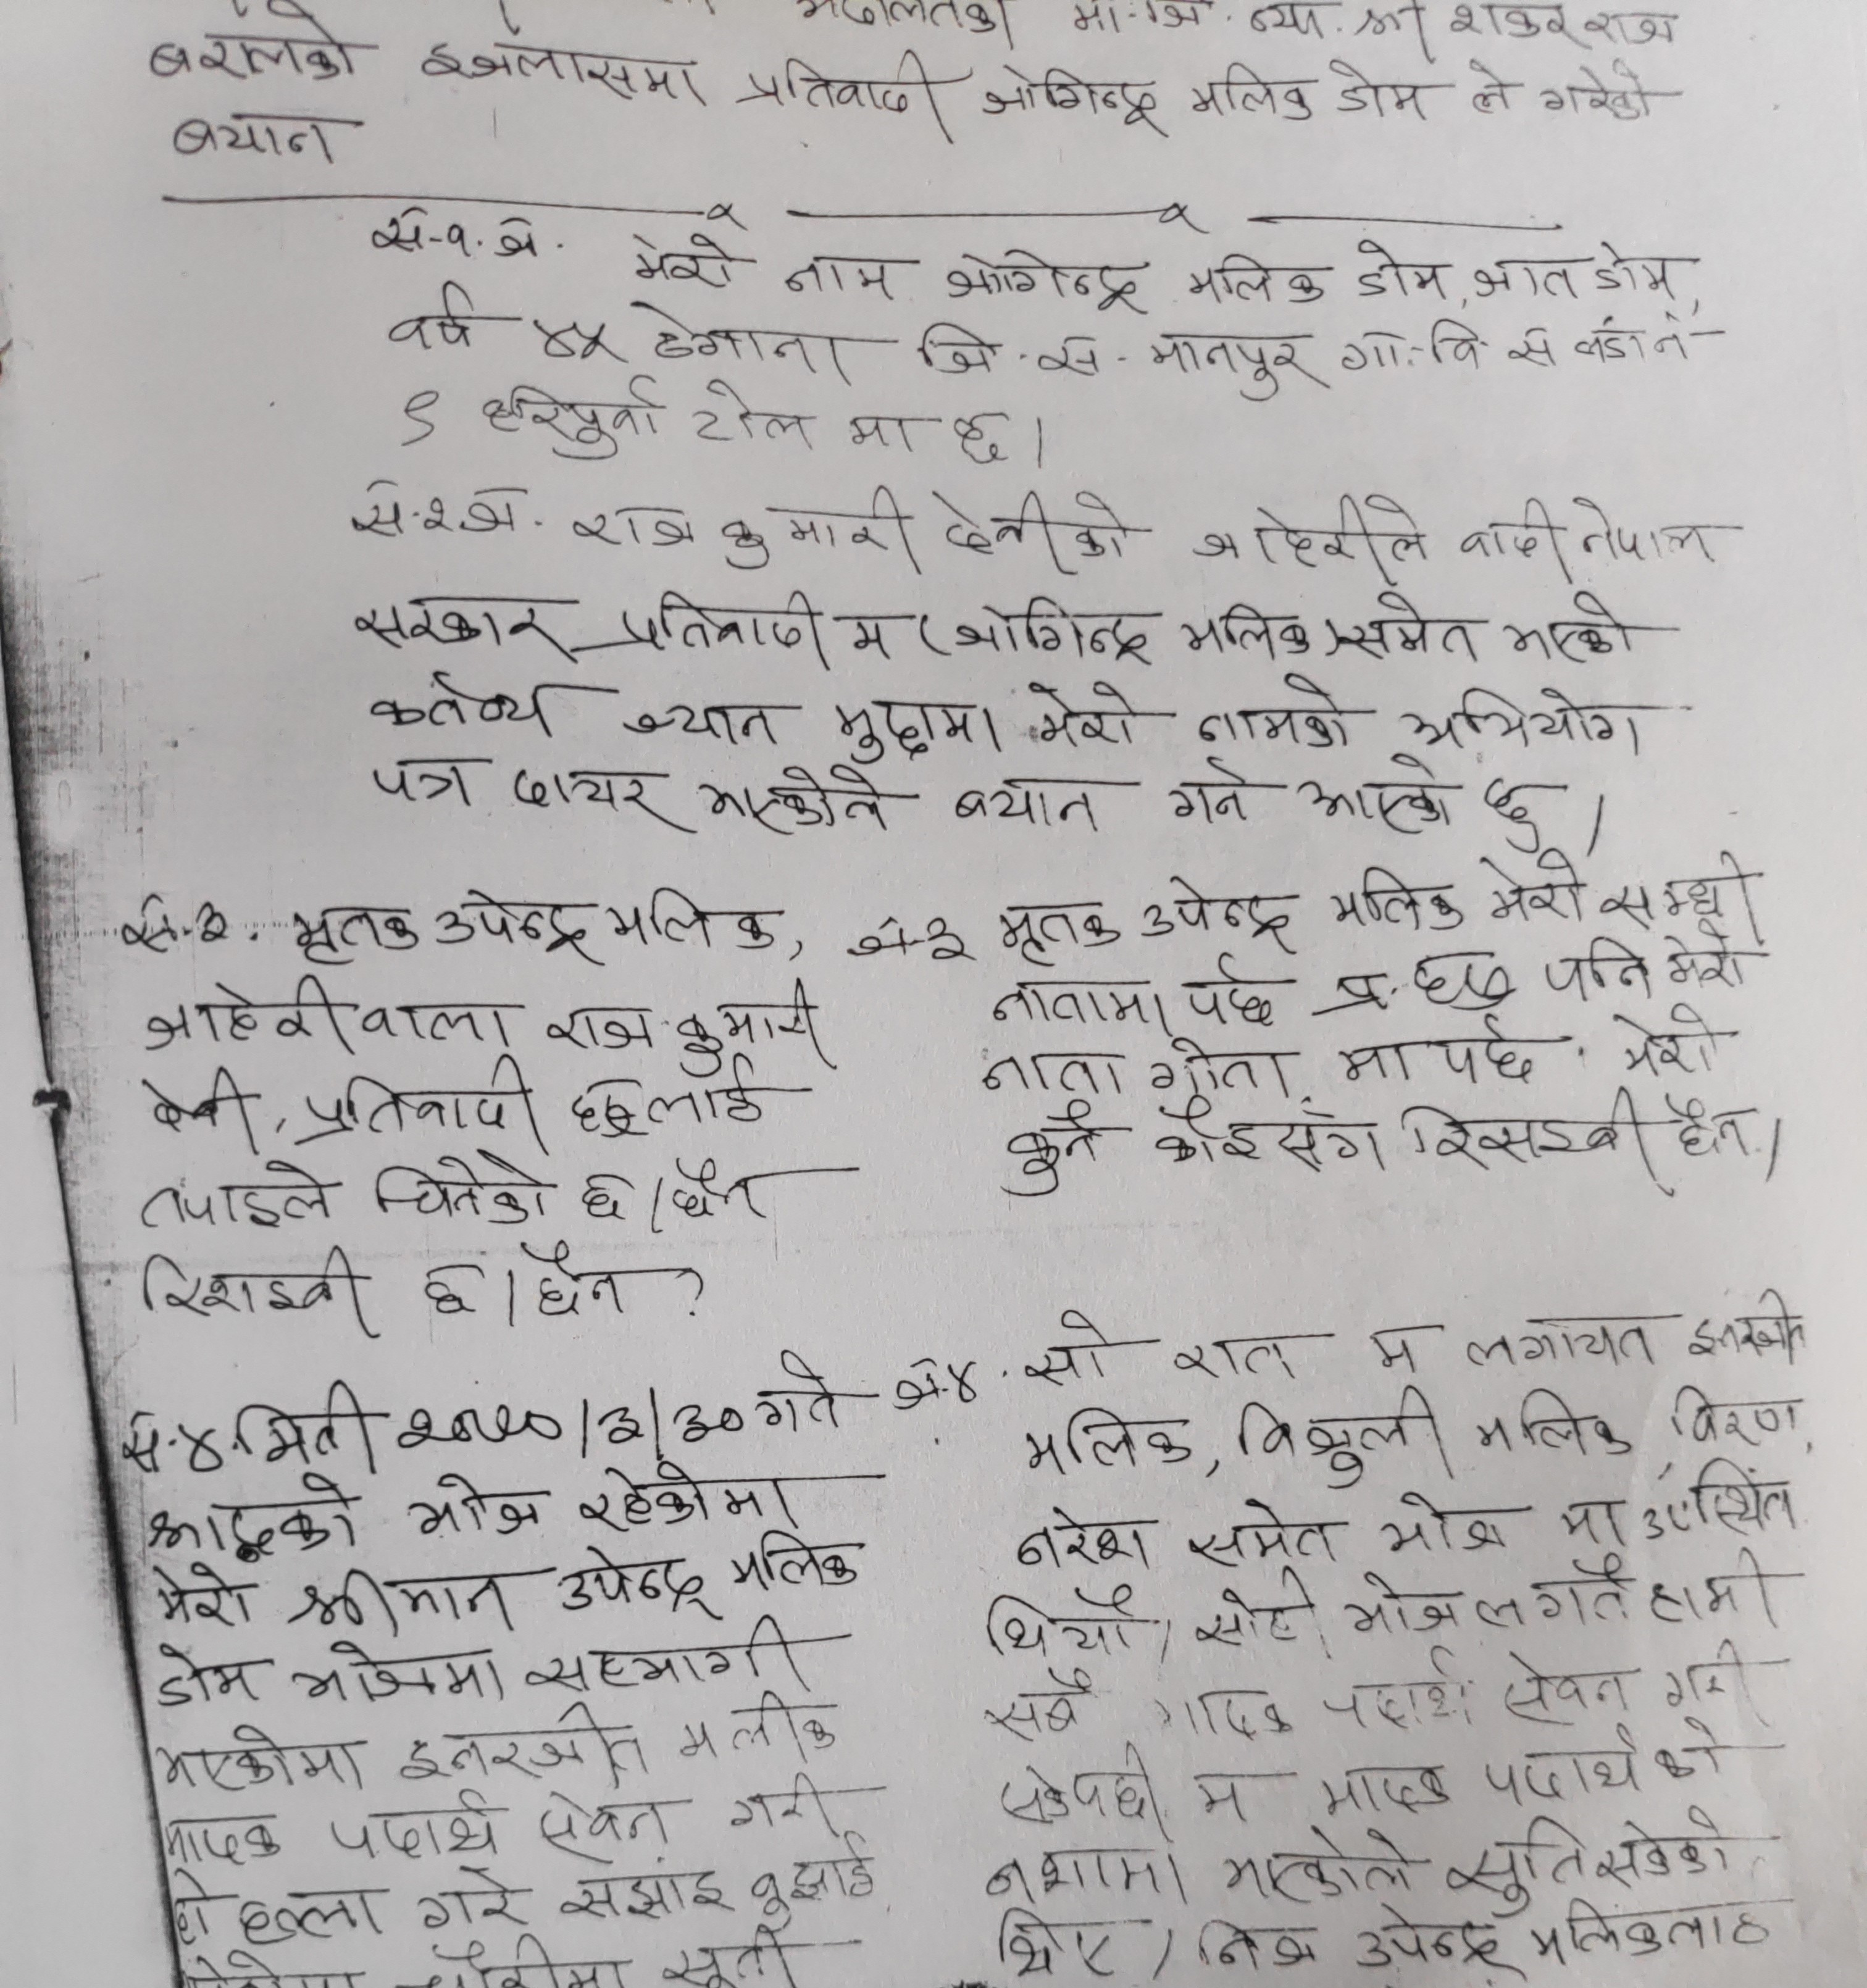text: (1228, 1379, 1470, 1493), (418, 28, 714, 112), (739, 44, 956, 156), (397, 1698, 660, 1790), (1398, 1088, 1653, 1179), (388, 1391, 755, 1455), (518, 1613, 802, 1691), (135, 1241, 374, 1334), (1184, 490, 1428, 577), (712, 477, 926, 576), (635, 291, 860, 384), (147, 1472, 372, 1565), (298, 1051, 546, 1135), (1151, 1095, 1390, 1181), (146, 0, 367, 91), (1393, 681, 1648, 754), (600, 584, 832, 665), (567, 1053, 779, 1141), (928, 483, 1137, 570), (291, 1562, 521, 1637), (153, 1718, 377, 1795), (167, 91, 363, 177), (977, 54, 1174, 140), (1220, 1823, 1420, 1907), (570, 1460, 797, 1534), (142, 974, 342, 1056), (1191, 663, 1360, 760), (344, 584, 562, 658), (948, 593, 1162, 667), (1441, 1807, 1588, 1914), (1144, 319, 1330, 404), (911, 312, 1139, 381), (476, 386, 669, 467), (135, 1156, 337, 1234), (290, 1641, 511, 1711), (997, 1739, 1176, 1825), (370, 1148, 553, 1232), (363, 667, 579, 737), (1316, 940, 1521, 1014), (693, 756, 891, 832), (1139, 872, 1314, 956), (1337, 311, 1558, 377), (554, 1535, 721, 1623), (937, 244, 1144, 314), (428, 881, 597, 967), (1635, 1456, 1807, 1541), (365, 197, 570, 267), (825, 686, 1004, 765), (981, 1835, 1191, 1902), (323, 1786, 509, 1862), (1472, 1384, 1635, 1470), (1479, 1721, 1639, 1809), (1297, 753, 1456, 839), (600, 883, 777, 960), (679, 1686, 844, 1769), (976, 1586, 1148, 1663), (1490, 1642, 1639, 1730), (509, 756, 670, 837), (1313, 1651, 1477, 1730), (669, 972, 832, 1051), (232, 1379, 372, 1470), (1023, 1405, 1195, 1479), (1184, 1569, 1328, 1656), (1595, 844, 1755, 923), (1588, 1809, 1751, 1886), (990, 963, 1169, 1033), (349, 470, 523, 542), (744, 1828, 872, 1925), (1455, 1307, 1667, 1365), (1177, 1491, 1337, 1567), (1334, 588, 1479, 669), (1500, 584, 1641, 667), (398, 1472, 553, 1546), (1574, 484, 1716, 563), (1014, 665, 1137, 754), (554, 1867, 733, 1928), (1176, 593, 1318, 669), (1000, 1102, 1104, 1205), (683, 379, 821, 456), (1648, 1548, 1783, 1627), (530, 1784, 674, 1858), (1656, 1377, 1802, 1449), (1677, 1283, 1804, 1365), (140, 1065, 256, 1155), (281, 897, 425, 969), (1334, 860, 1470, 935), (1372, 1490, 1516, 1560), (1153, 1033, 1300, 1102), (951, 767, 1107, 830), (1012, 1504, 1153, 1574), (1316, 1748, 1456, 1818), (1188, 56, 1321, 130), (1453, 493, 1567, 579), (519, 1239, 635, 1323), (1146, 1683, 1297, 1746), (1174, 249, 1328, 311), (158, 1802, 290, 1874), (1535, 56, 1660, 132), (1183, 953, 1290, 1040), (230, 1888, 386, 1948), (1542, 932, 1656, 1012), (979, 1667, 1095, 1746), (142, 1558, 263, 1634), (623, 691, 784, 747), (1342, 1569, 1465, 1642), (1604, 1005, 1723, 1081), (976, 1046, 1135, 1102), (146, 1637, 267, 1711), (723, 1528, 863, 1591), (354, 990, 507, 1048), (565, 491, 697, 558), (984, 898, 1119, 963), (1018, 1307, 1119, 1391), (753, 1346, 853, 1430), (1430, 1014, 1544, 1088), (384, 279, 490, 356), (1481, 856, 1586, 933), (416, 1860, 526, 1932), (663, 1153, 770, 1226), (1327, 47, 1432, 121), (537, 998, 663, 1060), (1530, 1553, 1639, 1623), (1655, 918, 1751, 997), (721, 1767, 837, 1832), (1346, 239, 1449, 311), (365, 753, 486, 814), (1170, 1328, 1290, 1390), (1467, 239, 1583, 302), (1660, 1088, 1755, 1165), (1162, 758, 1263, 828), (1579, 226, 1679, 297), (623, 230, 737, 291), (526, 307, 632, 370), (1477, 765, 1553, 851), (784, 253, 904, 305), (832, 607, 912, 670), (1334, 1032, 1416, 1093), (839, 404, 926, 460), (1569, 309, 1648, 370), (944, 404, 1016, 470), (386, 386, 456, 453), (414, 1256, 483, 1323), (1355, 1318, 1430, 1376), (1460, 47, 1521, 118), (576, 1170, 637, 1228), (1188, 1763, 1242, 1828), (1562, 1500, 1635, 1548)
